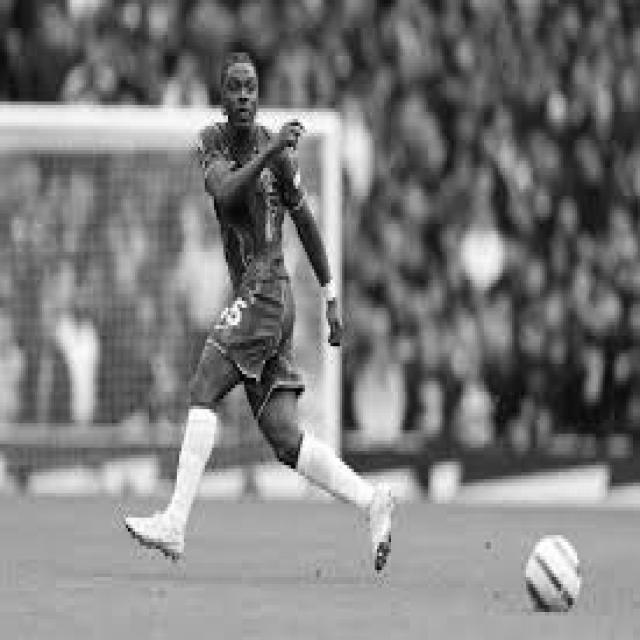football: (527, 530, 584, 616)
